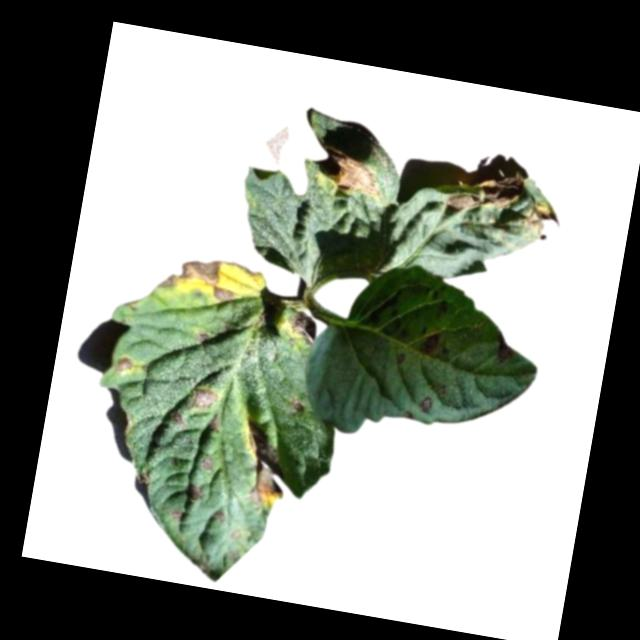Early_blight: (154, 249, 240, 309), (444, 162, 528, 220), (319, 147, 386, 201), (518, 197, 564, 242), (283, 307, 321, 345), (188, 386, 217, 409), (163, 504, 189, 523), (111, 353, 135, 373), (185, 480, 208, 500), (420, 391, 438, 413), (210, 506, 227, 524), (193, 329, 211, 344), (208, 413, 221, 432), (170, 408, 185, 424), (201, 452, 214, 468), (292, 397, 304, 412)
